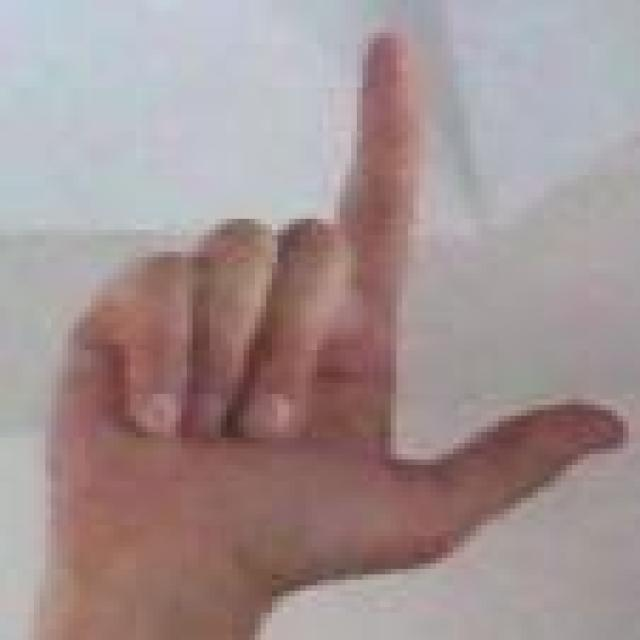L: (3, 0, 640, 583)
